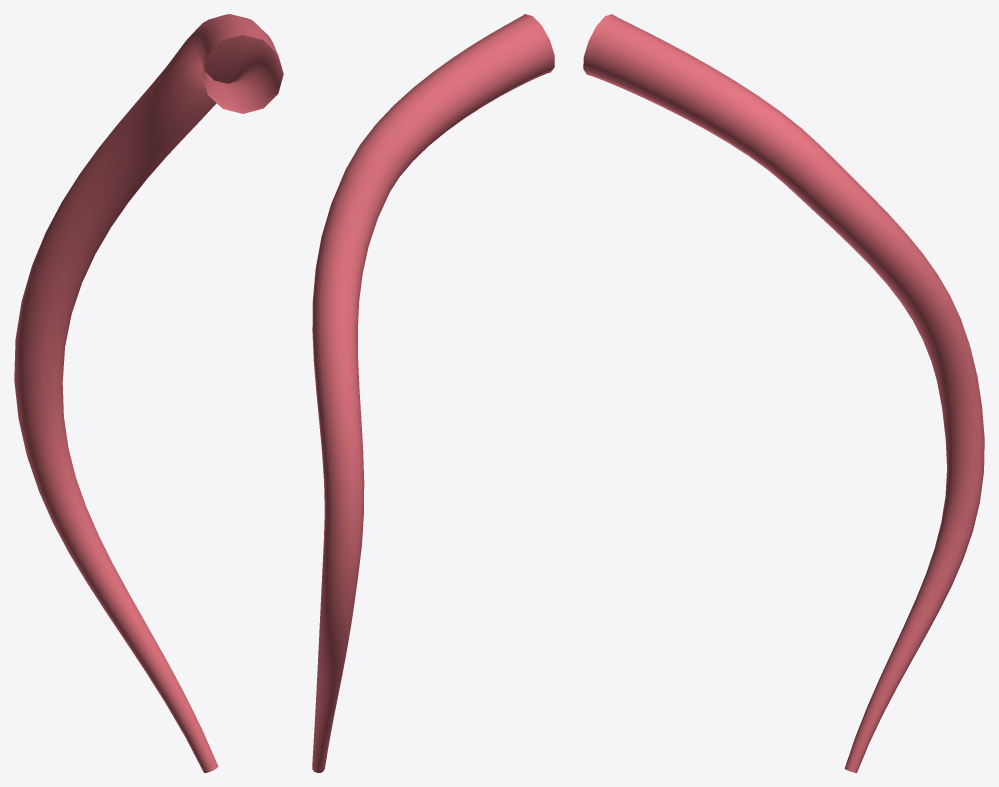
3 renders of one model, left to right at view 1: azimuth 30°, elevation 25°; view 2: azimuth 150°, elevation 25°; view 3: azimuth 270°, elevation 25°, orthographic. The views are drawn at different scales.
Parts seen in each view (by area): view 1: ZA_5f9d6d5788794117; view 2: ZA_5f9d6d5788794117; view 3: ZA_5f9d6d5788794117.
Boxes of the visible parts, left/top/right/bottom form: ZA_5f9d6d5788794117: left=14, top=14, right=283, bottom=772; ZA_5f9d6d5788794117: left=312, top=14, right=554, bottom=772; ZA_5f9d6d5788794117: left=583, top=14, right=984, bottom=772.
Size of the model in its own units: 0.00228 by 0.0119 by 0.0061.
